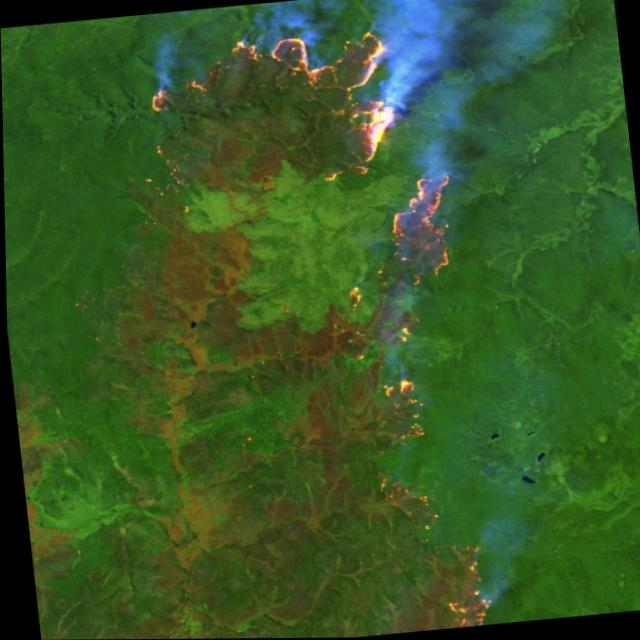fire: (126, 0, 512, 639)
